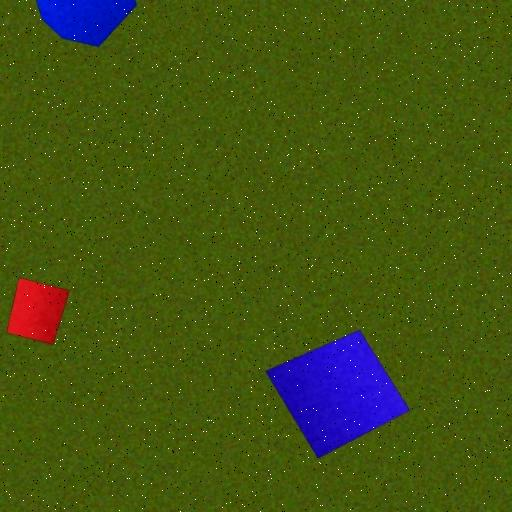BLUE_SQUARE: (265, 329, 411, 459)
RED_SQUARE: (6, 276, 70, 346)
